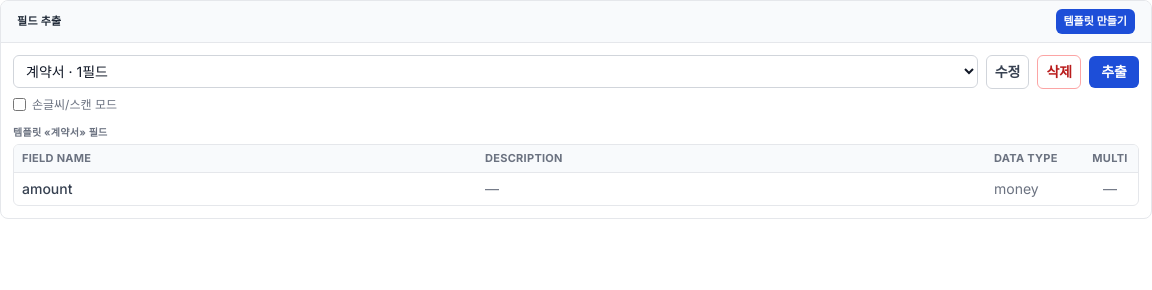
ExtractionPanel › 추출 실행 → 값·근거 표시, 손글씨 토글이 vlm 전달
The image size is (1152, 290).
Check: the dropdown named "추출 스키마 선택" is shown, box x1=13 y1=55 x2=978 y2=88
What coordinates should you click on to do the following:
click the checkbox labelled "손글씨/스캔 모드"
I would click on:
 (20, 104)
Its box is x1=13 y1=98 x2=26 y2=111.
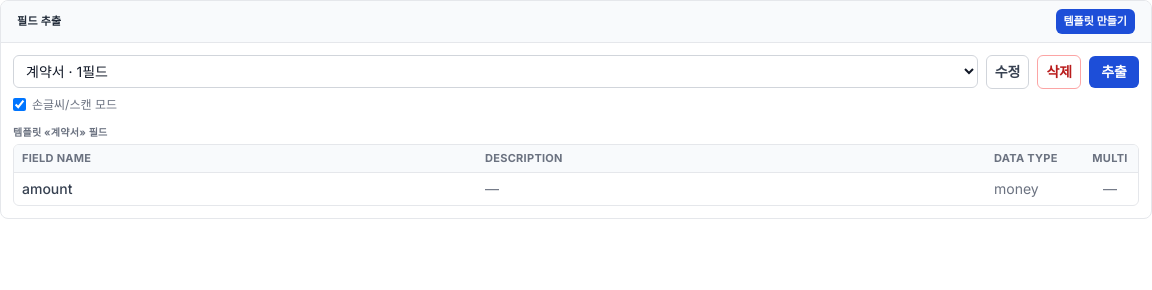
What coordinates should you click on to do the following:
click the button "추출"
I would click on:
 (1114, 72)
Its box is x1=1089 y1=56 x2=1139 y2=88.
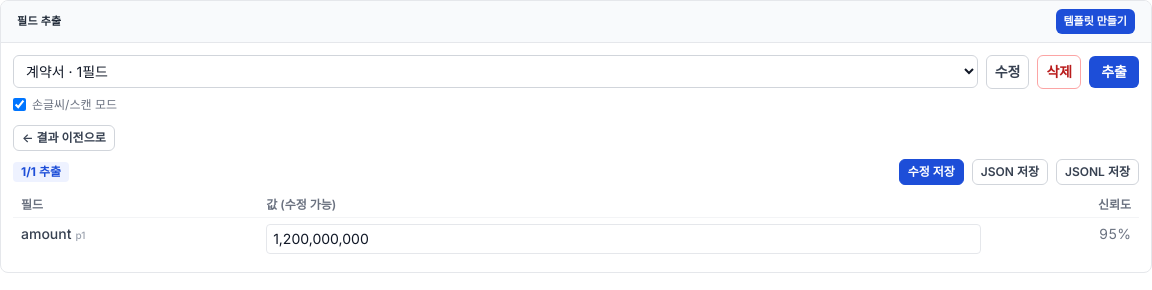
Check: the field showing "1,200,000,000" is shown, box x1=266 y1=224 x2=981 y2=254
Check: the text "1/1 추출" is shown, box x1=13 y1=162 x2=69 y2=182
